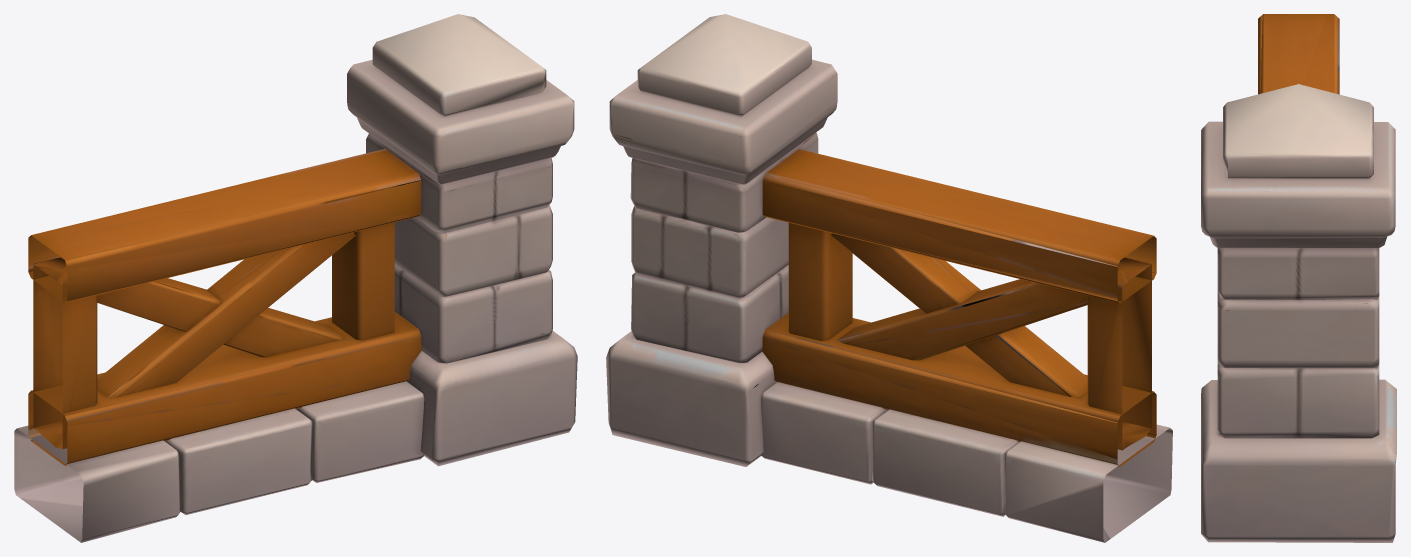
Rendered from fence_stone_open.glb.
3 views of the same model, side by side, from view 1: azimuth 30°, elevation 25°; view 2: azimuth 150°, elevation 25°; view 3: azimuth 270°, elevation 25° (orthographic). The views are drawn at different scales.
Visible parts, largest first — view 1: fence_stone; view 2: fence_stone; view 3: fence_stone.
Boxes of the visible parts, box(x1,y1,x2,y2) form: fence_stone: box(14, 14, 577, 542); fence_stone: box(606, 14, 1172, 542); fence_stone: box(1201, 14, 1396, 542).
Size of the model in its own units: 0.4846 by 0.3862 by 0.1616.
1 material, 1 textured.
